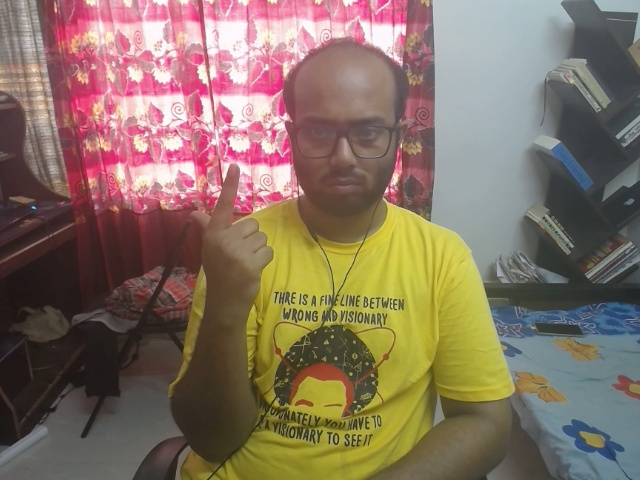seven: (177, 151, 302, 330)
